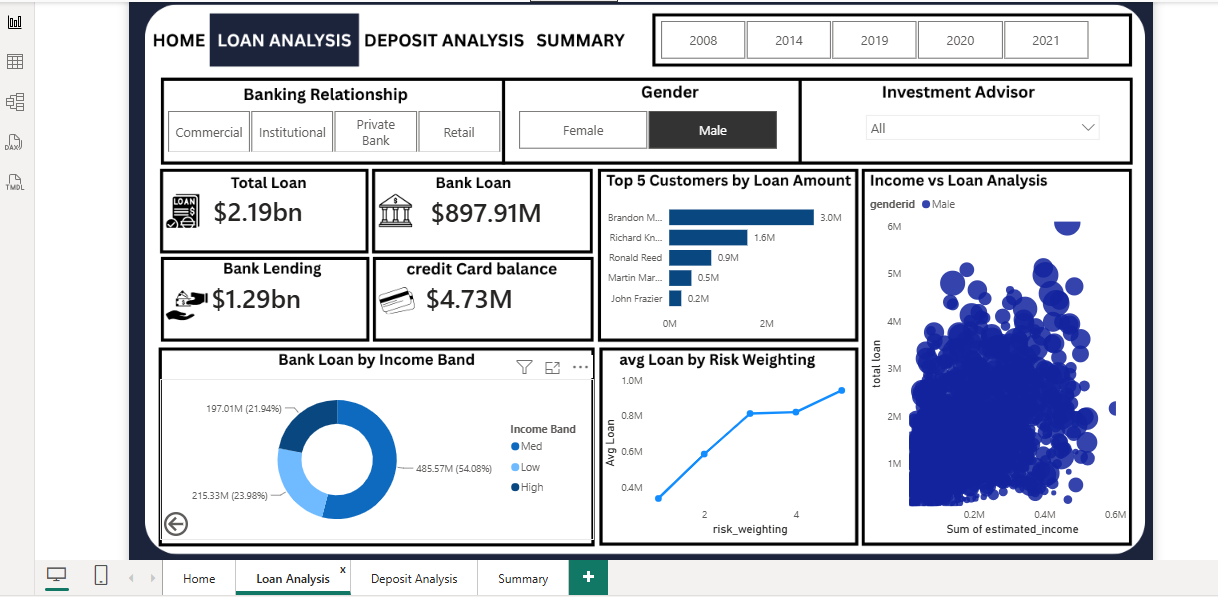

The page's visual inventory and layout, read from the dashboard file:
{"tool":"powerbi","page":{"name":"Loan Analysis","canvas":[1280,720],"ordinal":1},"visuals":[{"type":"slicer","fields":{"Values":["public customers.joined_bank.Variation.Date Hierarchy.Year"]},"box":[641.7,28.3,581.7,56.7],"z":0},{"type":"actionButton","box":[24.3,37.1,74.3,40],"z":1000},{"type":"actionButton","box":[288.6,37.1,205.7,40],"z":2000},{"type":"actionButton","box":[505.7,37.1,122.9,40],"z":3000},{"type":"cardVisual","fields":{"Data":["public customers.total loan"]},"box":[100,230,190,67.5],"z":4000},{"type":"donutChart","fields":{"Category":["public customers.Income Band"],"Y":["Sum(public customers.bank_loans)"]},"box":[38.6,481.4,542.9,201.4],"z":5000},{"type":"cardVisual","fields":{"Data":["Sum(public customers.business_lending)"]},"box":[73.6,348.6,208.6,81.4],"z":6000},{"type":"cardVisual","fields":{"Data":["Sum(public customers.credit_card_balance)"]},"box":[353.6,347.1,208.6,70],"z":7000},{"type":"cardVisual","fields":{"Data":["Sum(public customers.bank_loans)"]},"box":[360,242.5,207.5,67.5],"z":8000},{"type":"slicer","fields":{"Values":["public customers.brid"]},"box":[24.5,141.8,462.7,56.4],"z":9000},{"type":"slicer","fields":{"Values":["public customers.genderid"]},"box":[463.3,141.7,370,56.7],"z":10000},{"type":"slicer","fields":{"Values":["public customers.iaid"]},"box":[911.7,141.7,311.7,56.7],"z":11000},{"type":"scatterChart","fields":{"X":["Sum(public customers.estimated_income)"],"Category":["public customers.client_id"],"Series":["public customers.genderid"],"Y":["public customers.total loan"],"Size":["Sum(public customers.bank_deposits)"]},"box":[921.4,242.9,331.4,440],"z":12000},{"type":"lineChart","fields":{"Category":["public customers.risk_weighting"],"Y":["public customers.Avg Loan"]},"box":[588.6,469.3,317.1,213.6],"z":13000},{"type":"clusteredBarChart","fields":{"Category":["public customers.name"],"Y":["Sum(public customers.bank_loans)"]},"box":[581.2,246.2,323.8,183.8],"z":14000},{"type":"actionButton","box":[38.6,642.9,100,40],"z":15000}]}

Visuals, with their boxes on the page's 1280x720 design canvas (x1, y1, x2, y2). These are canvas units, not pixel positions in the 1218x597 screenshot, which may show the page scaled, cropped or inside an application window:
slicer - public customers.joined_bank.Variation.Date Hierarchy.Year: box=[642, 28, 1223, 85]
actionButton: box=[24, 37, 99, 77]
actionButton: box=[289, 37, 494, 77]
actionButton: box=[506, 37, 629, 77]
cardVisual - public customers.total loan: box=[100, 230, 290, 298]
donutChart - public customers.Income Band x Sum(public customers.bank_loans): box=[39, 481, 582, 683]
cardVisual - Sum(public customers.business_lending): box=[74, 349, 282, 430]
cardVisual - Sum(public customers.credit_card_balance): box=[354, 347, 562, 417]
cardVisual - Sum(public customers.bank_loans): box=[360, 242, 568, 310]
slicer - public customers.brid: box=[24, 142, 487, 198]
slicer - public customers.genderid: box=[463, 142, 833, 198]
slicer - public customers.iaid: box=[912, 142, 1223, 198]
scatterChart - Sum(public customers.estimated_income) x public customers.client_id: box=[921, 243, 1253, 683]
lineChart - public customers.risk_weighting x public customers.Avg Loan: box=[589, 469, 906, 683]
clusteredBarChart - public customers.name x Sum(public customers.bank_loans): box=[581, 246, 905, 430]
actionButton: box=[39, 643, 139, 683]
